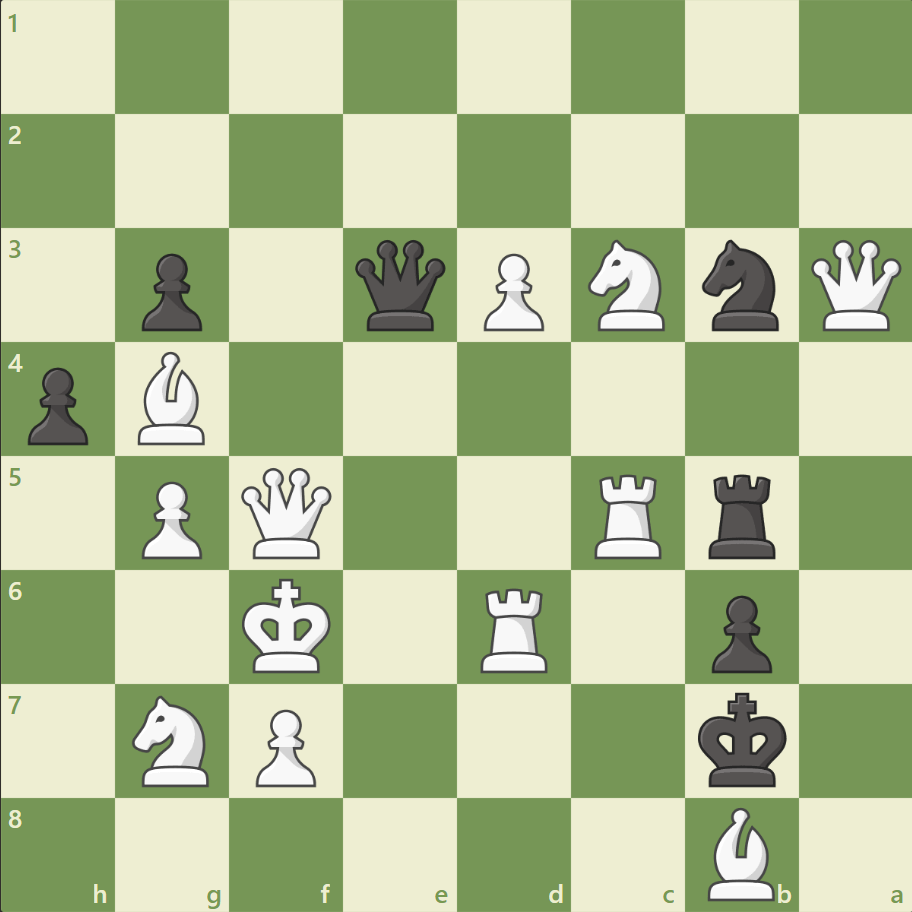B: (698, 801, 782, 904), (131, 347, 215, 449)
K: (238, 571, 338, 679)
N: (124, 688, 222, 791), (579, 234, 676, 337)
P: (247, 700, 322, 791), (133, 473, 208, 564), (474, 246, 549, 337)
Q: (237, 463, 336, 562), (805, 236, 904, 335)
R: (473, 579, 556, 676), (587, 466, 670, 563)
k: (692, 685, 792, 793)
n: (692, 234, 789, 337)
p: (701, 586, 776, 677), (20, 359, 95, 450), (133, 246, 208, 337)
q: (351, 236, 450, 335)
r: (700, 466, 783, 563)
